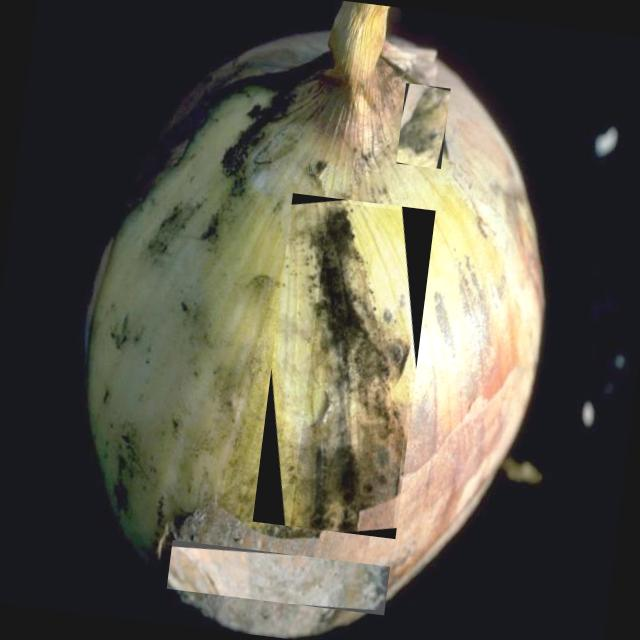mould: (290, 201, 414, 532), (166, 540, 390, 615), (396, 82, 450, 168)
